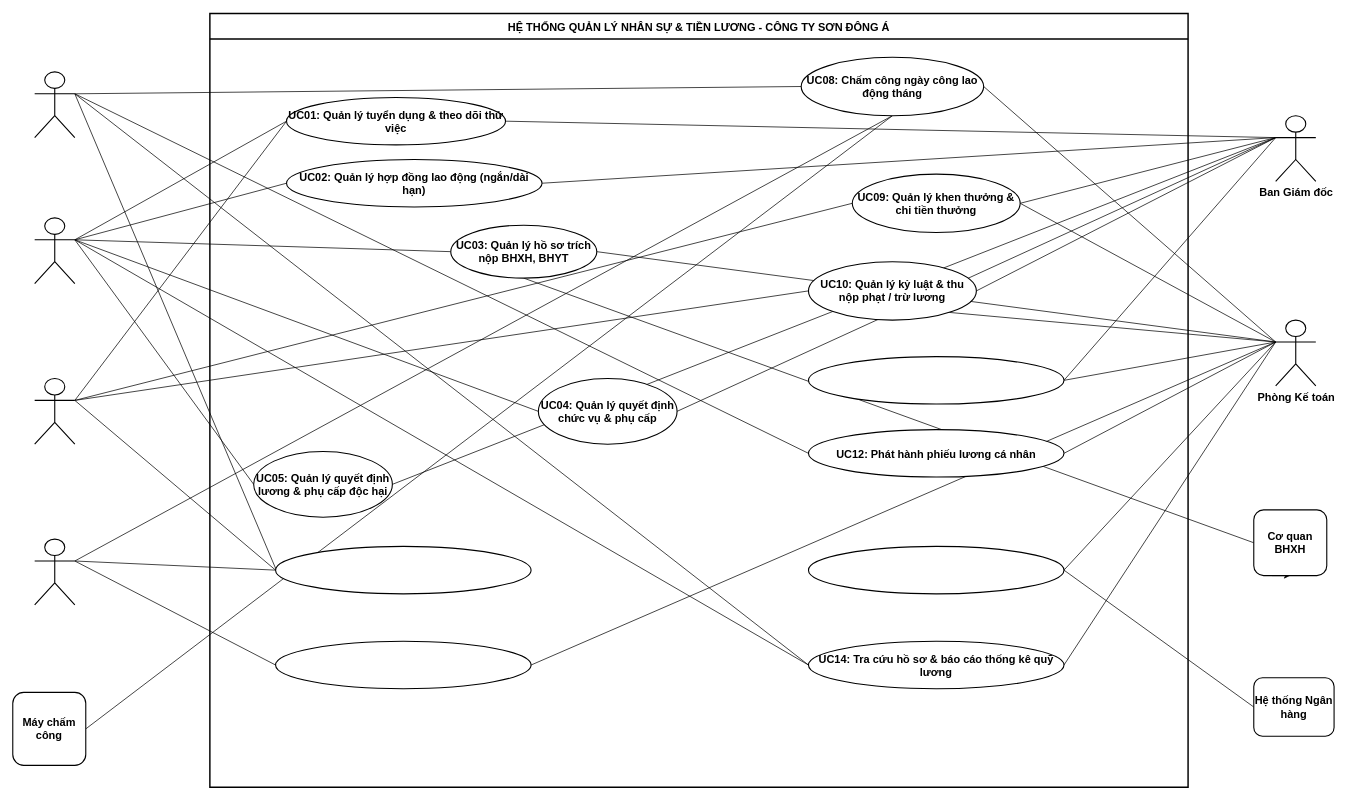
This 1348x800 diagram has some shape labels left out. Each missing label, with the centre of its shape:
Ban chấm công: (x=54, y=571)
Nhân viên: (x=54, y=104)
Phòng Nhân sự: (x=54, y=250)
Trưởng phòng: (x=54, y=411)
UC06: Lập kế hoạch phân ca tuần & phụ trội: (x=403, y=570)
UC07: Ghi nhận phiếu phụ trội (tăng ca x1.5): (x=403, y=664)
UC11: Tính toán & tổng hợp bảng lương tháng: (x=936, y=380)
UC13: Chi trả tiền lương qua tài khoản ngân hàng: (x=936, y=570)
